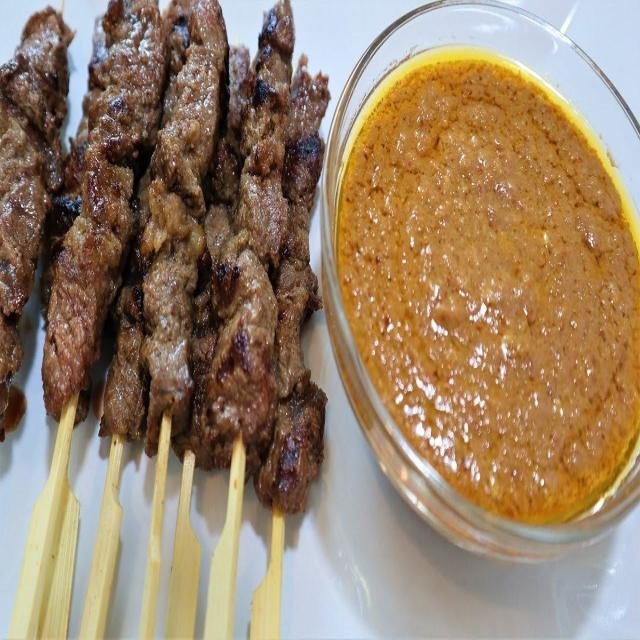Sate: (9, 16, 330, 640)
